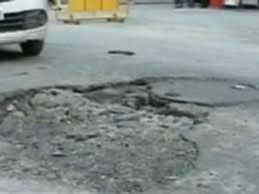pothole: (1, 79, 198, 189)
